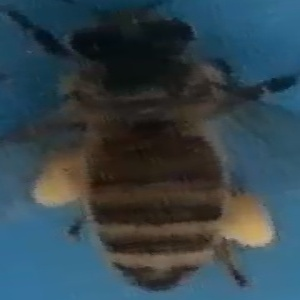bee: (22, 4, 278, 293)
